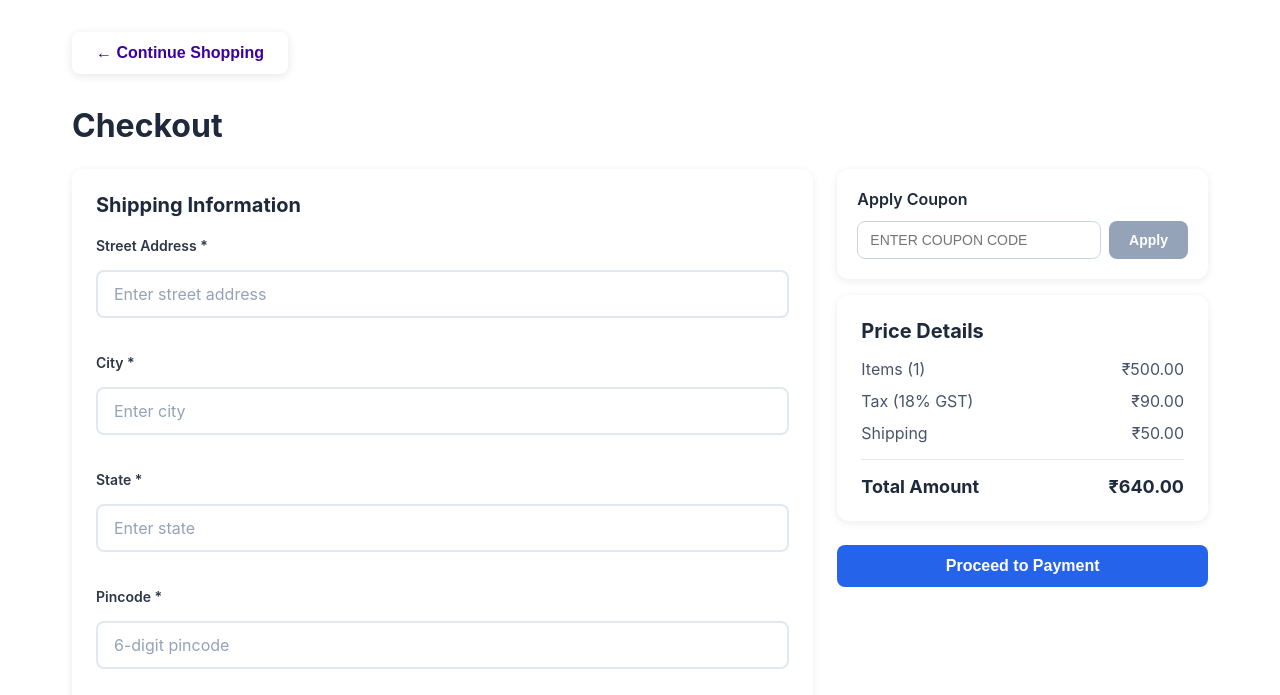
Test: CheckoutPage › handles order creation errors with detailed messages
Type "21 Pine St" into the field labelled "Street Address *" at {"x": 443, "y": 294}, box [96, 270, 789, 318]
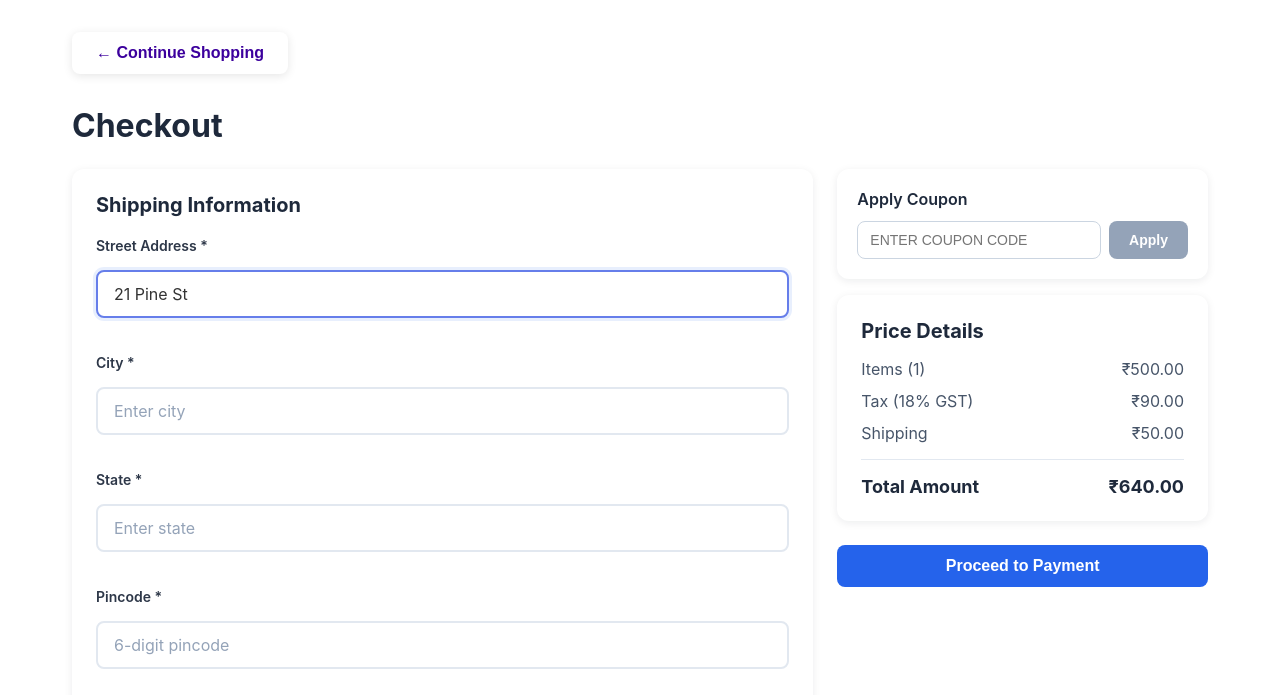
Type "Evergreen" into the field labelled "City *" at {"x": 443, "y": 411}, box [96, 387, 789, 435]
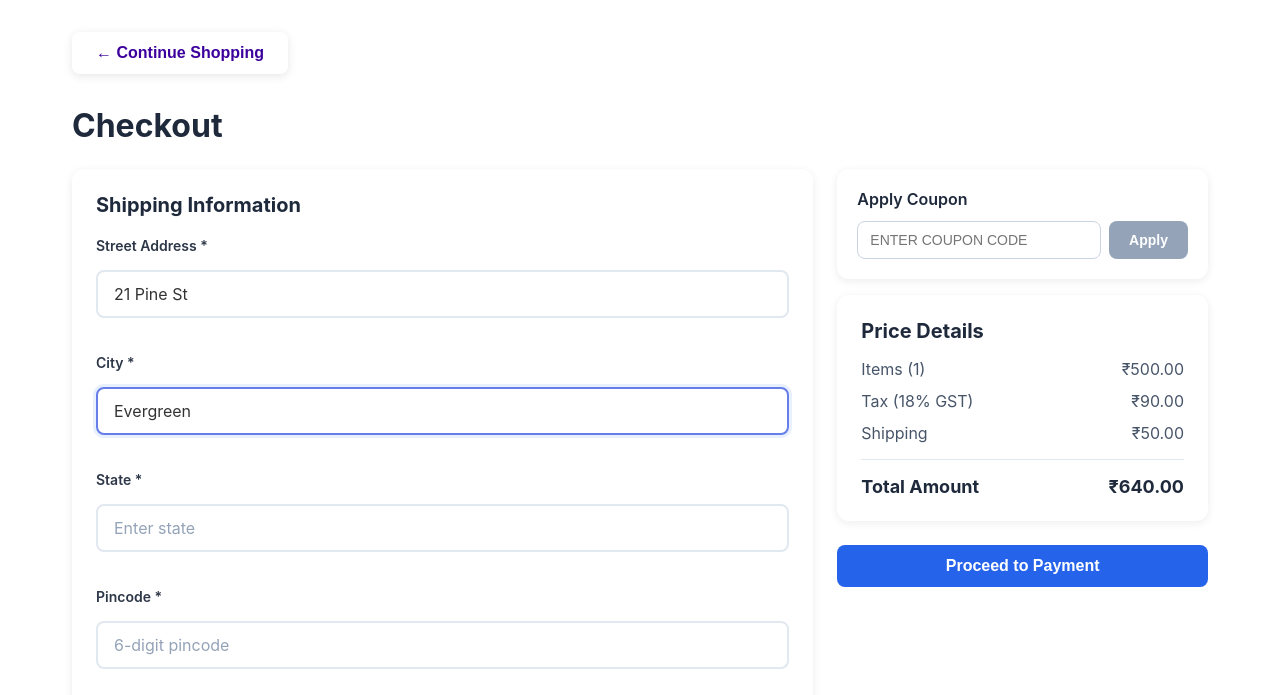
Type "Forest" into the field labelled "State *" at {"x": 443, "y": 528}, box [96, 504, 789, 552]
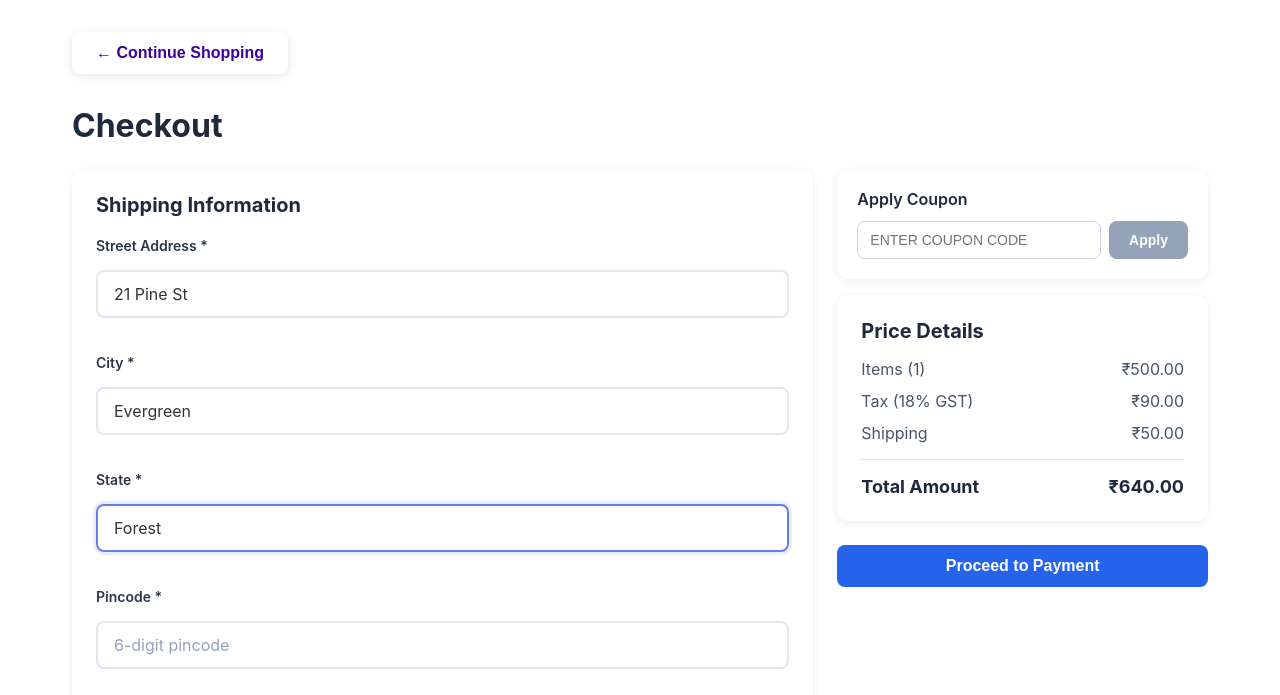
Type "112233" into the field labelled "Pincode *" at {"x": 443, "y": 645}, box [96, 621, 789, 669]
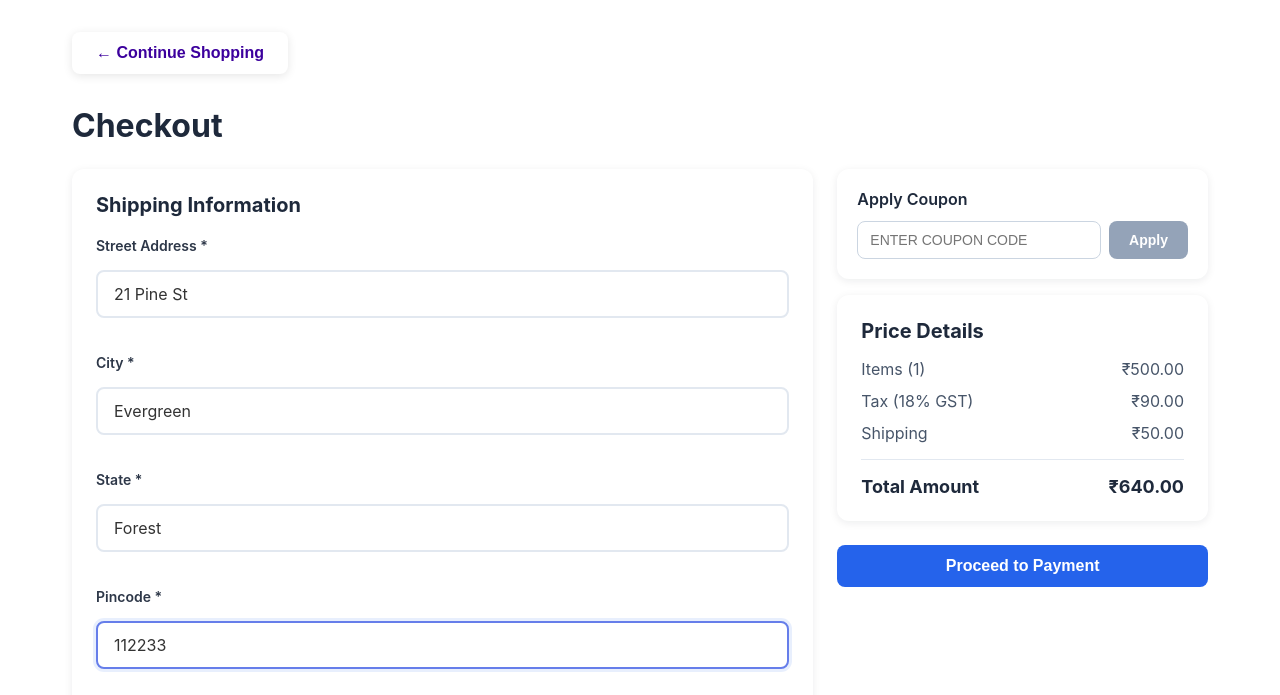
Click the button "Proceed to Payment" at {"x": 1023, "y": 566}, box [837, 545, 1208, 587]
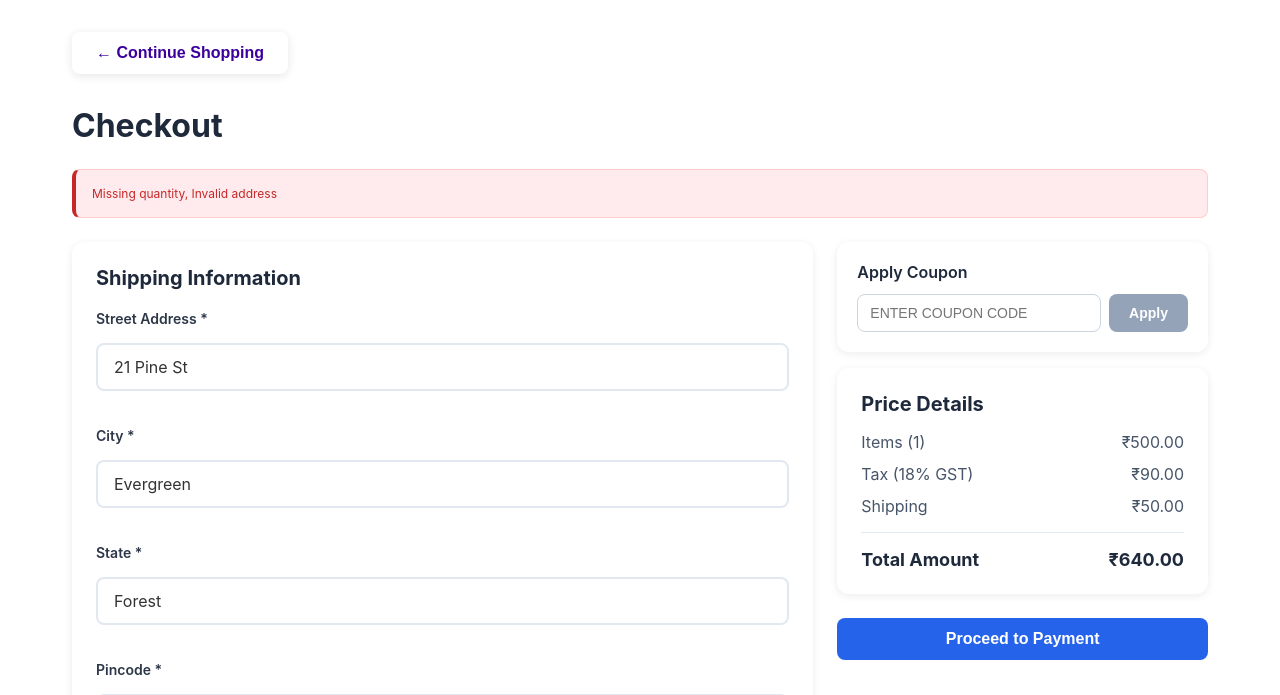
Expected: the text "Missing quantity, Invalid address" is shown, [72, 169, 1208, 218]
